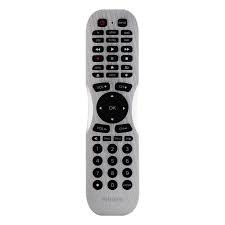remote control: (78, 4, 146, 216)
